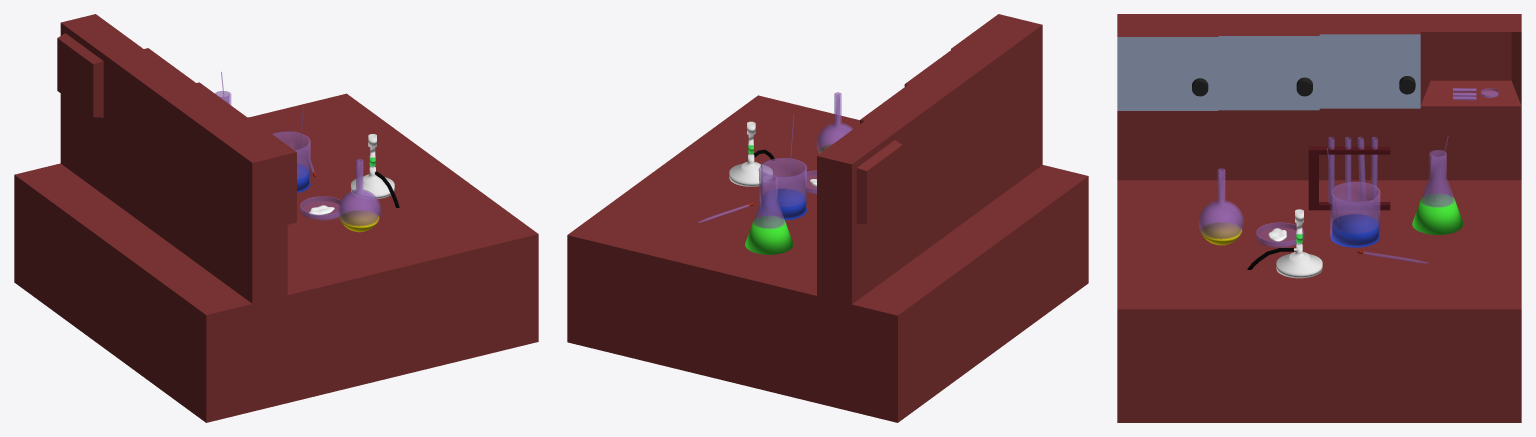
Rendered from chemistry_lab.glb.
3 renders of one model, left to right at view 1: azimuth 30°, elevation 25°; view 2: azimuth 150°, elevation 25°; view 3: azimuth 270°, elevation 25°, orthographic. The views are drawn at different scales.
Parts seen in each view (by area): view 1: Cube.001, Sphere, Cylinder.005, Cylinder.012, Cylinder.010, Sphere.001; view 2: Cube.001, Cylinder.005, Cylinder.006, Cylinder.004, Cylinder.012, Sphere, Cylinder.007; view 3: Cube.001, Cylinder.005, Sphere, Cylinder.006, Cube, Cylinder.007, Cylinder.012, Cylinder.004, Cylinder.010, Sphere.001, Cylinder, Cylinder.002 (+2 smaller).
Part boxes in pixels (x1,y1,x2,y2): Cube.001: (14,14,538,422); Sphere: (338,159,380,226); Cylinder.005: (272,131,310,192); Cylinder.012: (351,134,394,198); Cylinder.010: (300,196,341,220); Sphere.001: (339,210,379,232); Cube.001: (567,14,1088,422); Cylinder.005: (758,157,806,219); Cylinder.006: (745,216,793,254); Cylinder.004: (753,174,784,228); Cylinder.012: (729,121,772,186); Sphere: (816,92,852,153); Cylinder.007: (762,189,806,220); Cube.001: (1117,14,1521,422); Cylinder.005: (1330,181,1380,247); Sphere: (1198,168,1243,239); Cylinder.006: (1412,194,1463,234); Cube: (1308,146,1390,210); Cylinder.007: (1330,214,1379,247); Cylinder.012: (1276,209,1322,278); Cylinder.004: (1421,150,1454,207); Cylinder.010: (1256,222,1304,247); Sphere.001: (1200,222,1242,245); Cylinder: (1328,136,1334,203); Cylinder.002: (1357,137,1365,200).
Bounding box in the file's own units: 763 × 546 × 763.
